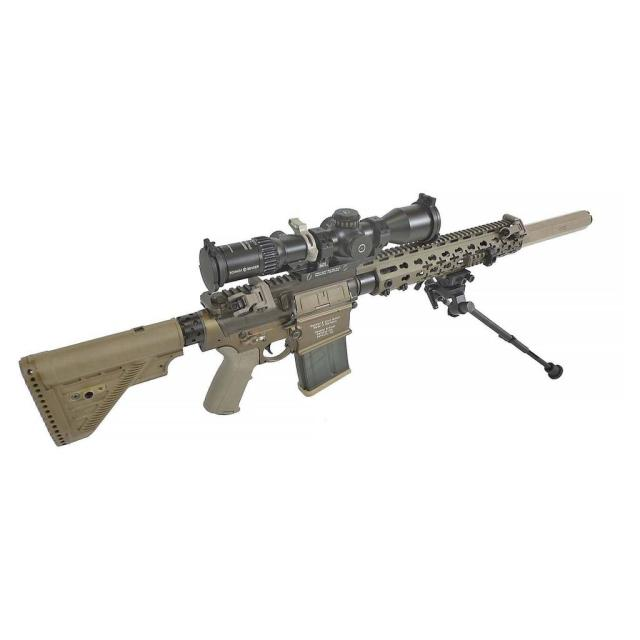Rifle: (18, 194, 594, 449)
